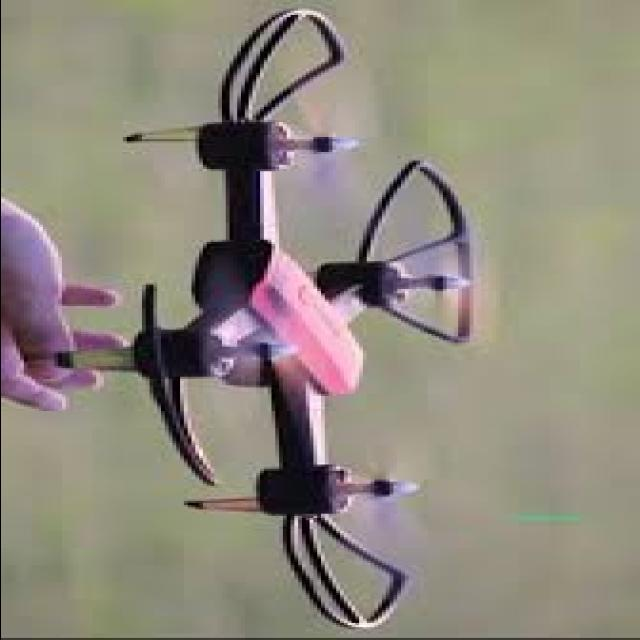drone: (49, 1, 503, 640)
